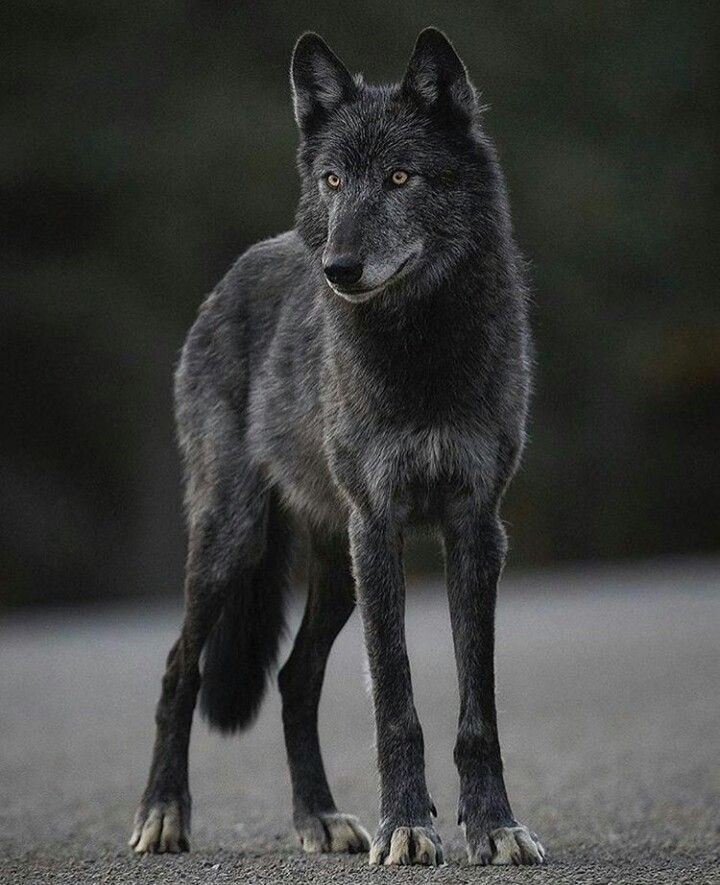Lobo: (112, 28, 590, 878)
